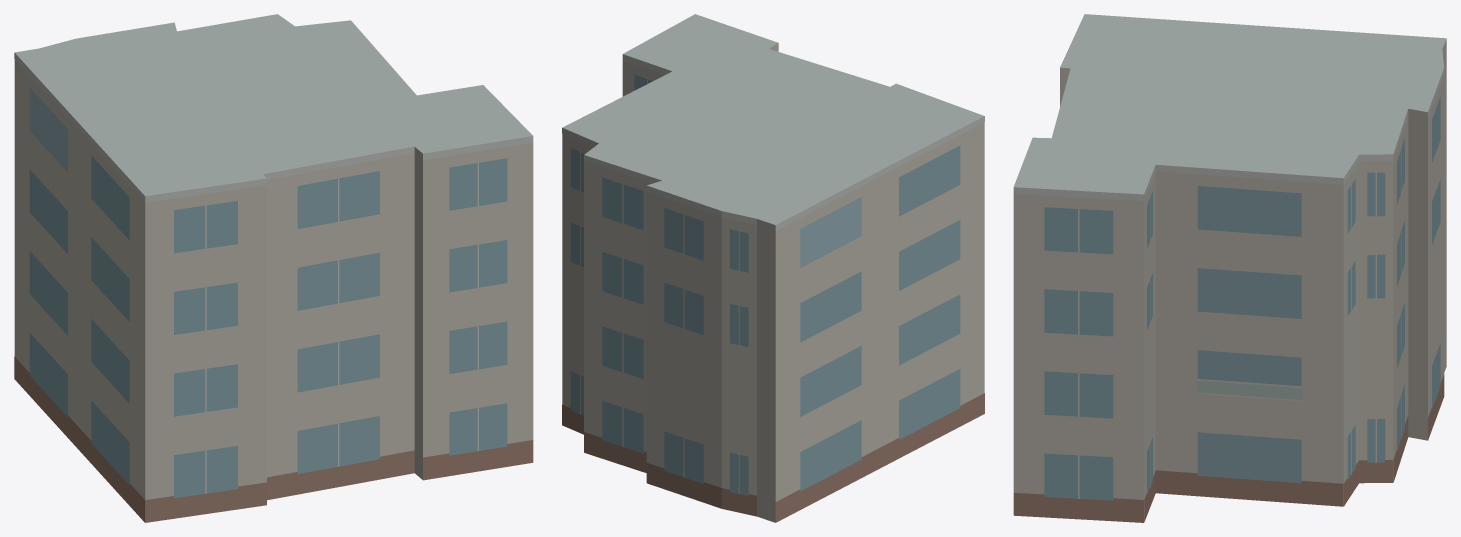
The model's file is survey-upis-32804864.glb.
3 renders of one model, left to right at view 1: azimuth 30°, elevation 25°; view 2: azimuth 150°, elevation 25°; view 3: azimuth 270°, elevation 25°, orthographic. The views are drawn at different scales.
Visible parts, largest first — view 1: survey-upis-32804864.tmp; view 2: survey-upis-32804864.tmp; view 3: survey-upis-32804864.tmp.
Boxes of the visible parts, box(x1,y1,x2,y2) form: survey-upis-32804864.tmp: box(14, 14, 533, 522); survey-upis-32804864.tmp: box(562, 14, 984, 522); survey-upis-32804864.tmp: box(1013, 14, 1446, 522).
Bounding box in the file's own units: 14.38 × 12.2 × 14.58.
